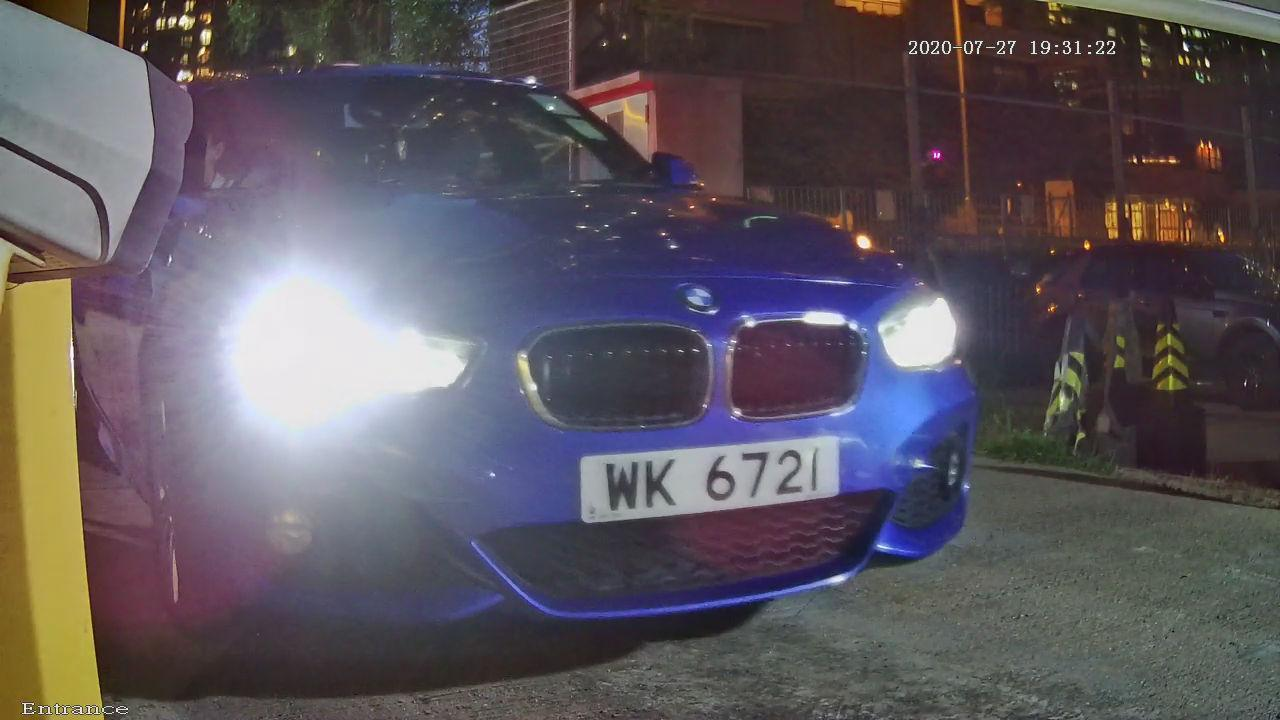privatecar: (92, 7, 1063, 692)
